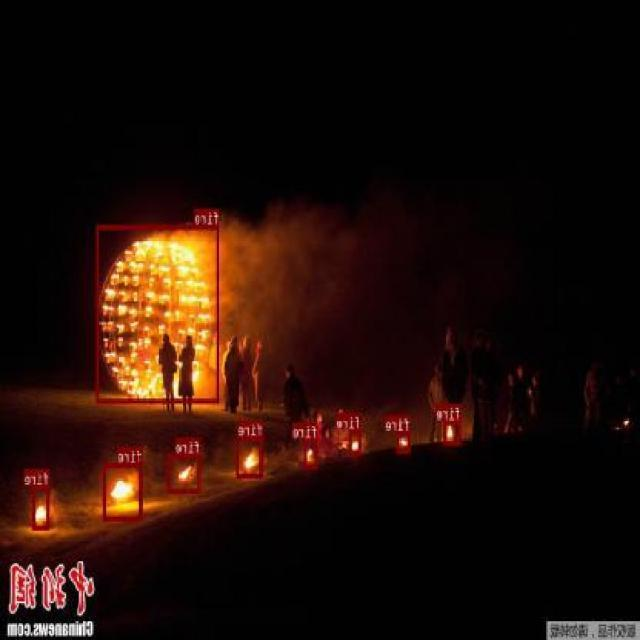Fire: (97, 224, 220, 402), (104, 462, 144, 521), (168, 453, 202, 493), (237, 436, 265, 476), (32, 484, 51, 530), (444, 420, 462, 445), (304, 438, 318, 468), (350, 428, 362, 454), (397, 430, 411, 452)
